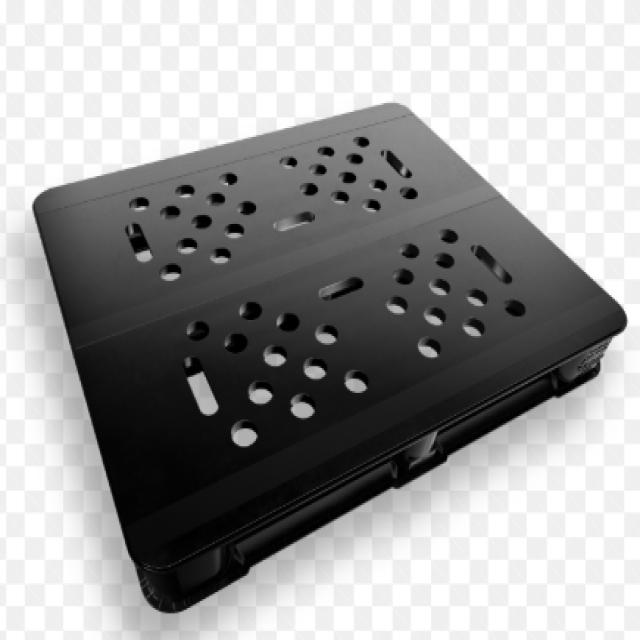igps: (31, 100, 627, 614)
